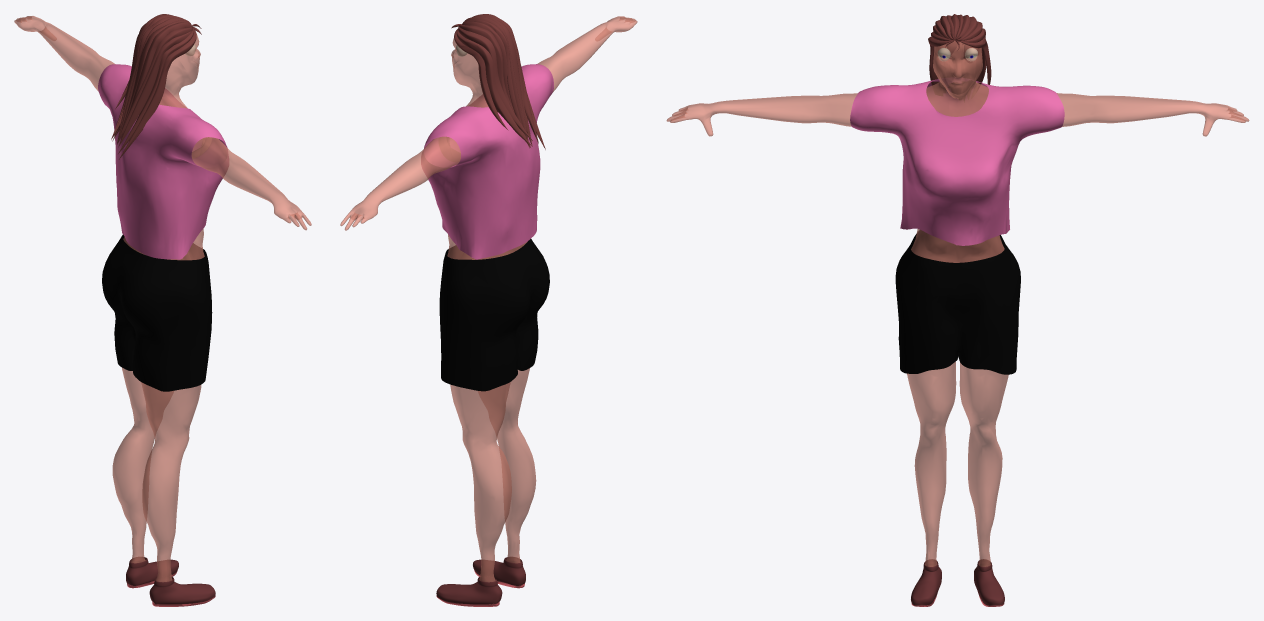
File: character_with_hair.fbx
3 views of the same model, side by side, from view 1: azimuth 30°, elevation 25°; view 2: azimuth 150°, elevation 25°; view 3: azimuth 270°, elevation 25° (orthographic).
Visible parts, largest first — view 1: character; view 2: character; view 3: character.
Part boxes in pixels (x1,y1,x2,y2): character: [14, 14, 311, 606]; character: [340, 14, 637, 606]; character: [666, 14, 1249, 606].
Bounding box in the file's own units: 66.46 × 341 × 310.
